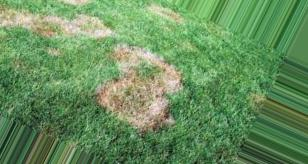patch: (122, 49, 157, 123), (57, 17, 104, 36)
